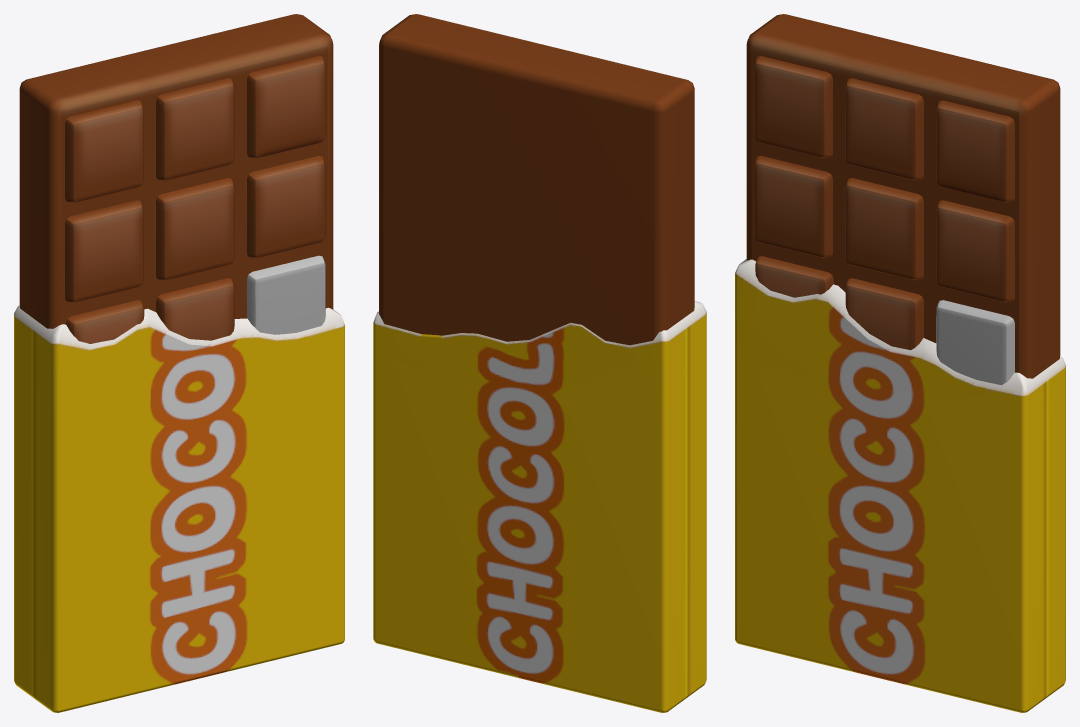
The model's file is chocolate_yellow.fbx.
3 views of the same model, side by side, from view 1: azimuth 30°, elevation 25°; view 2: azimuth 150°, elevation 25°; view 3: azimuth 330°, elevation 25° (orthographic).
Parts seen in each view (by area): view 1: chocolate_yellow; view 2: chocolate_yellow; view 3: chocolate_yellow.
Boxes of the visible parts, left/top/right/bottom form: chocolate_yellow: left=14, top=14, right=344, bottom=712; chocolate_yellow: left=373, top=14, right=706, bottom=712; chocolate_yellow: left=735, top=14, right=1065, bottom=712.
Bounding box in the file's own units: 0.4042 × 0.8 × 0.1027.
